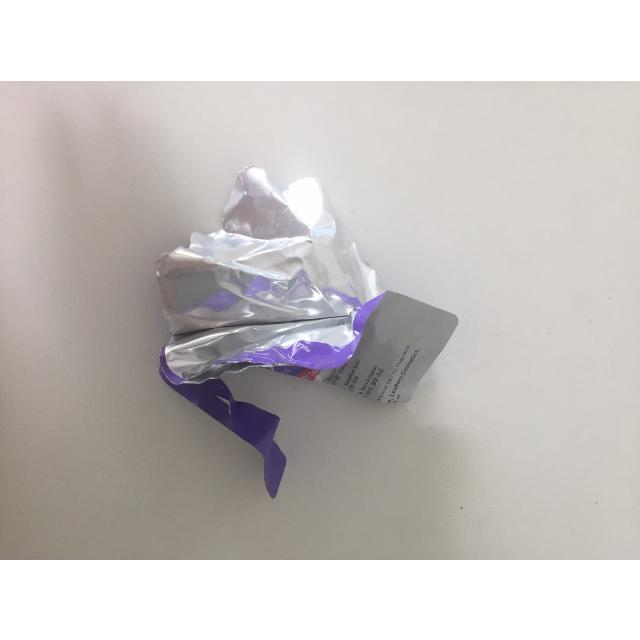Paquete de plastico: (135, 180, 465, 470)
